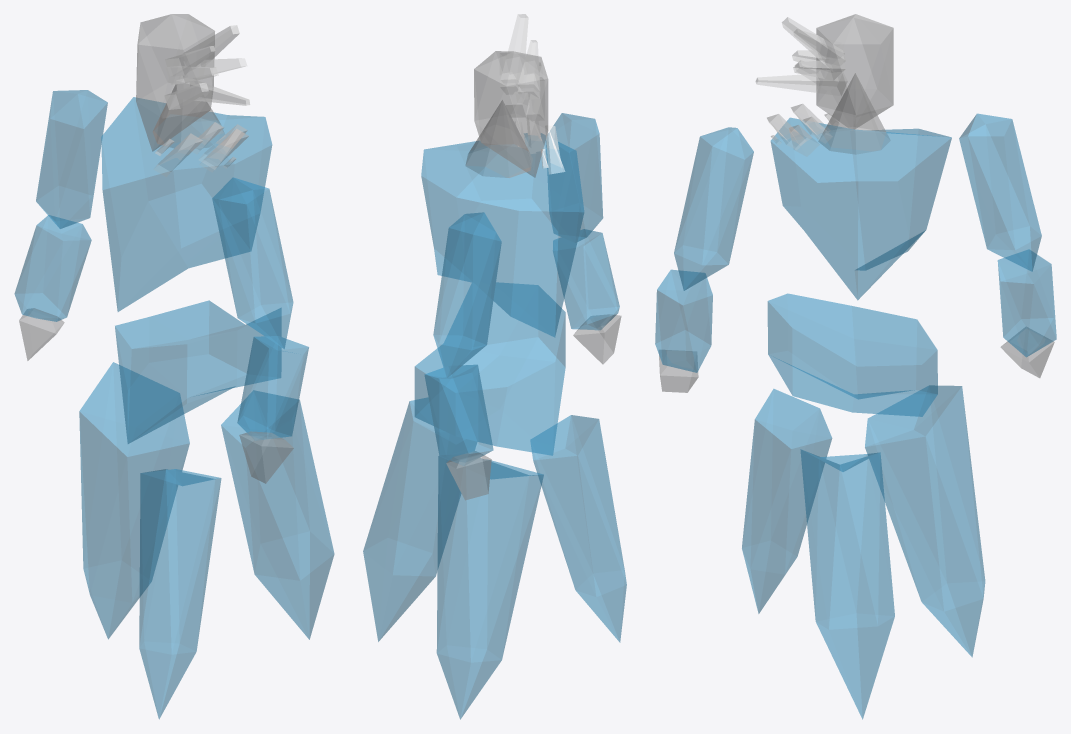
The model's file is ghostIdle32.obj.
3 views of the same model, side by side, from view 1: azimuth 30°, elevation 25°; view 2: azimuth 150°, elevation 25°; view 3: azimuth 270°, elevation 25° (orthographic). The views are drawn at different scales.
Parts seen in each view (by area): view 1: Cube.001_Cube.001, Icosphere.005, Icosphere.004, Cube_Cube.002, Icosphere.003, Icosphere.005_Icosphere.001, Icosphere.003_Icosphere.001, Icosphere.007_Icosphere.001, Icosphere.008_Icosphere.001, Icosphere.006_Icosphere.001, Cone_Cone.002, Cube.002_Cube.001 (+8 smaller); view 2: Cube.001_Cube.001, Cube_Cube.002, Icosphere.005, Icosphere.004, Icosphere.003, Icosphere.007_Icosphere.001, Icosphere.003_Icosphere.001, Icosphere.005_Icosphere.001, Icosphere.008_Icosphere.001, Icosphere.006_Icosphere.001, Cone_Cone.002, Cube.003_Cube.001 (+6 smaller); view 3: Cube.001_Cube.001, Icosphere.005, Icosphere.004, Cube_Cube.002, Icosphere.003, Icosphere.005_Icosphere.001, Icosphere.007_Icosphere.001, Icosphere.003_Icosphere.001, Icosphere.006_Icosphere.001, Icosphere.008_Icosphere.001, Cone_Cone.002, Cube.003_Cube.001 (+4 smaller).
Part boxes in pixels (box(x1,y1,x2,y2)): Cube.001_Cube.001: box(101, 97, 272, 311); Icosphere.005: box(79, 362, 189, 639); Icosphere.004: box(221, 390, 334, 639); Cube_Cube.002: box(115, 300, 281, 443); Icosphere.003: box(139, 469, 221, 719); Icosphere.005_Icosphere.001: box(212, 177, 293, 348); Icosphere.003_Icosphere.001: box(136, 14, 214, 151); Icosphere.007_Icosphere.001: box(36, 90, 107, 228); Icosphere.008_Icosphere.001: box(14, 215, 91, 321); Icosphere.006_Icosphere.001: box(237, 336, 308, 440); Cone_Cone.002: box(153, 85, 224, 148); Cube.002_Cube.001: box(239, 431, 293, 483); Cube.001_Cube.001: box(421, 133, 584, 337); Cube_Cube.002: box(414, 282, 565, 455); Icosphere.005: box(436, 453, 543, 719); Icosphere.004: box(363, 398, 476, 641); Icosphere.003: box(530, 415, 626, 642); Icosphere.007_Icosphere.001: box(433, 212, 501, 377); Icosphere.003_Icosphere.001: box(474, 51, 548, 177); Icosphere.005_Icosphere.001: box(546, 113, 603, 242); Icosphere.008_Icosphere.001: box(424, 364, 493, 465); Icosphere.006_Icosphere.001: box(553, 229, 619, 329); Cone_Cone.002: box(465, 100, 530, 177); Cube.003_Cube.001: box(446, 451, 491, 500); Cube.001_Cube.001: box(770, 117, 951, 300); Icosphere.005: box(865, 385, 985, 657); Icosphere.004: box(800, 449, 894, 719); Cube_Cube.002: box(767, 293, 937, 416); Icosphere.003: box(742, 389, 832, 613); Icosphere.005_Icosphere.001: box(674, 127, 753, 290); Icosphere.007_Icosphere.001: box(959, 113, 1041, 271); Icosphere.003_Icosphere.001: box(816, 14, 893, 128); Icosphere.006_Icosphere.001: box(655, 269, 712, 372); Icosphere.008_Icosphere.001: box(997, 250, 1056, 357); Cone_Cone.002: box(818, 73, 890, 154); Cube.003_Cube.001: box(1000, 327, 1054, 377).
Bounding box in the file's own units: 16.88 × 48.3 × 26.92.
